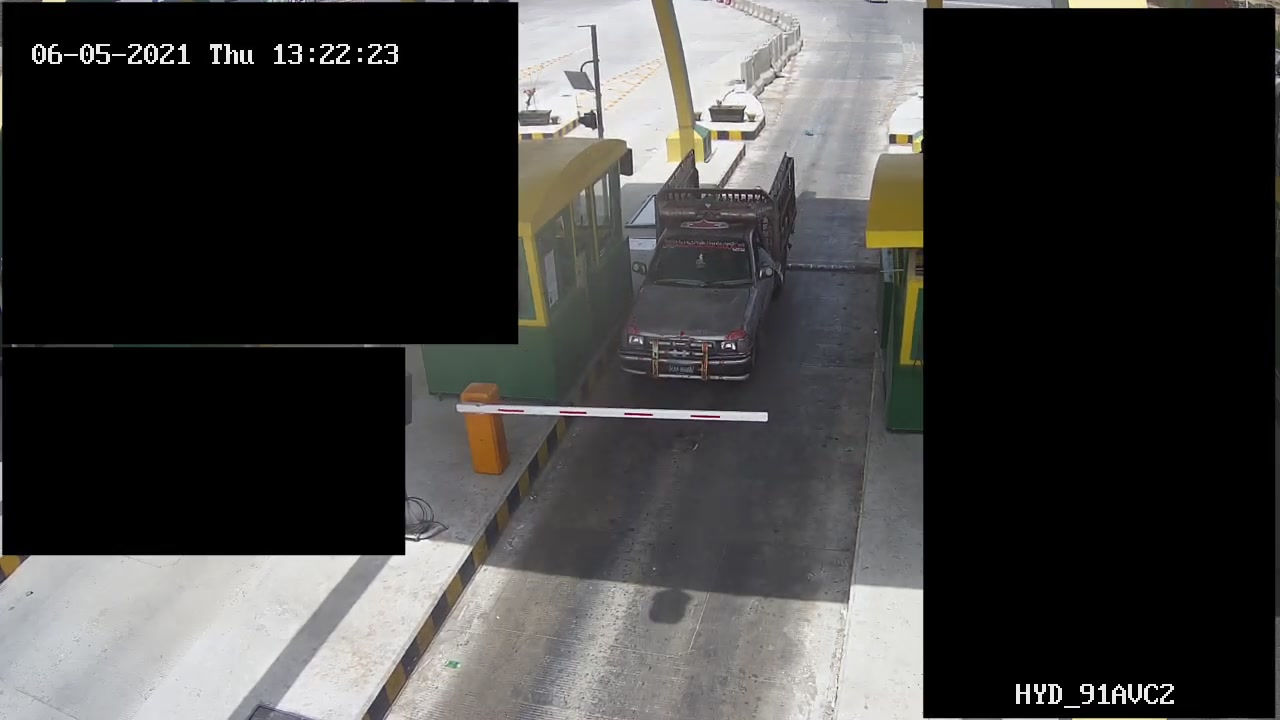F1: (618, 142, 805, 401)
